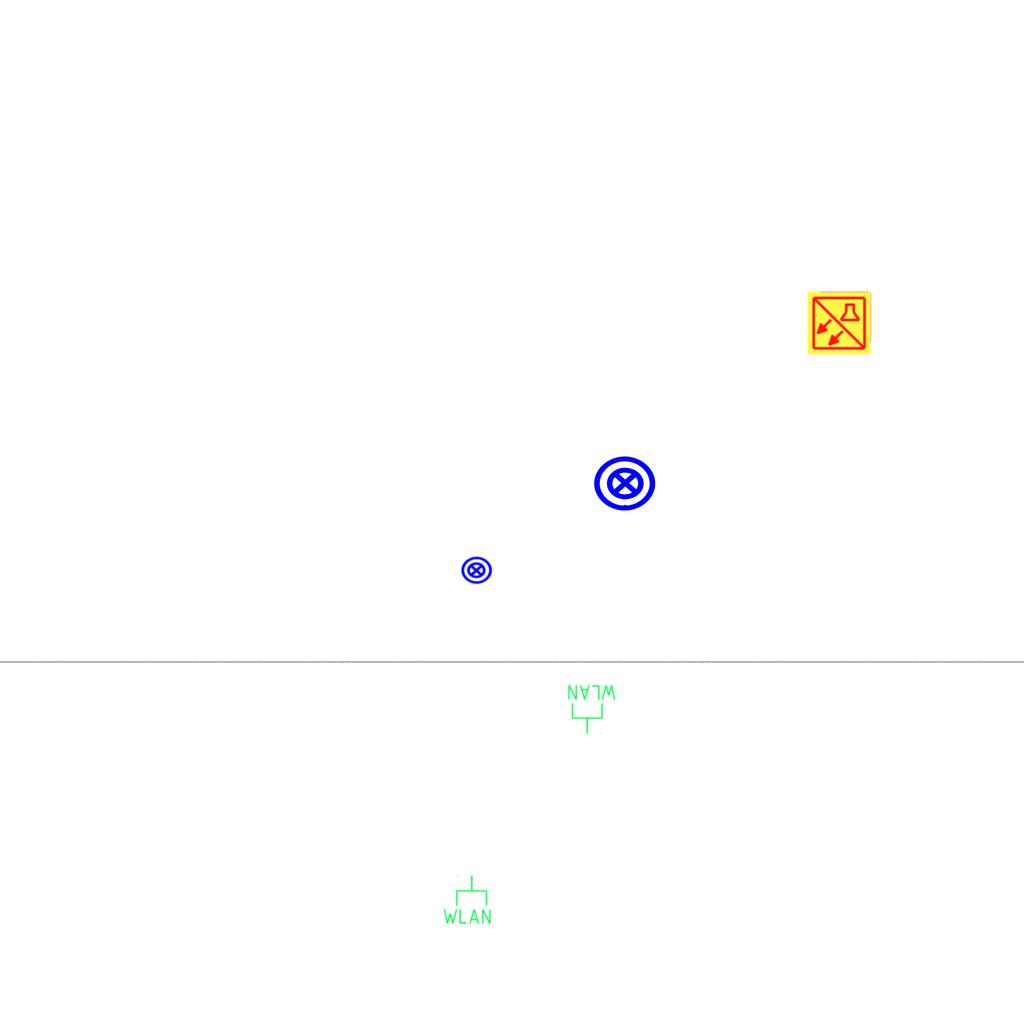OKW_Multisensormelder_(Kombination_optischer_Rauch-Kahlenmonoxid_Waerme-Melder): (806, 290, 872, 356)
Taster_beleuchtet: (592, 450, 658, 516), (460, 554, 493, 587)
WLAN: (566, 683, 618, 735), (441, 874, 493, 926)
